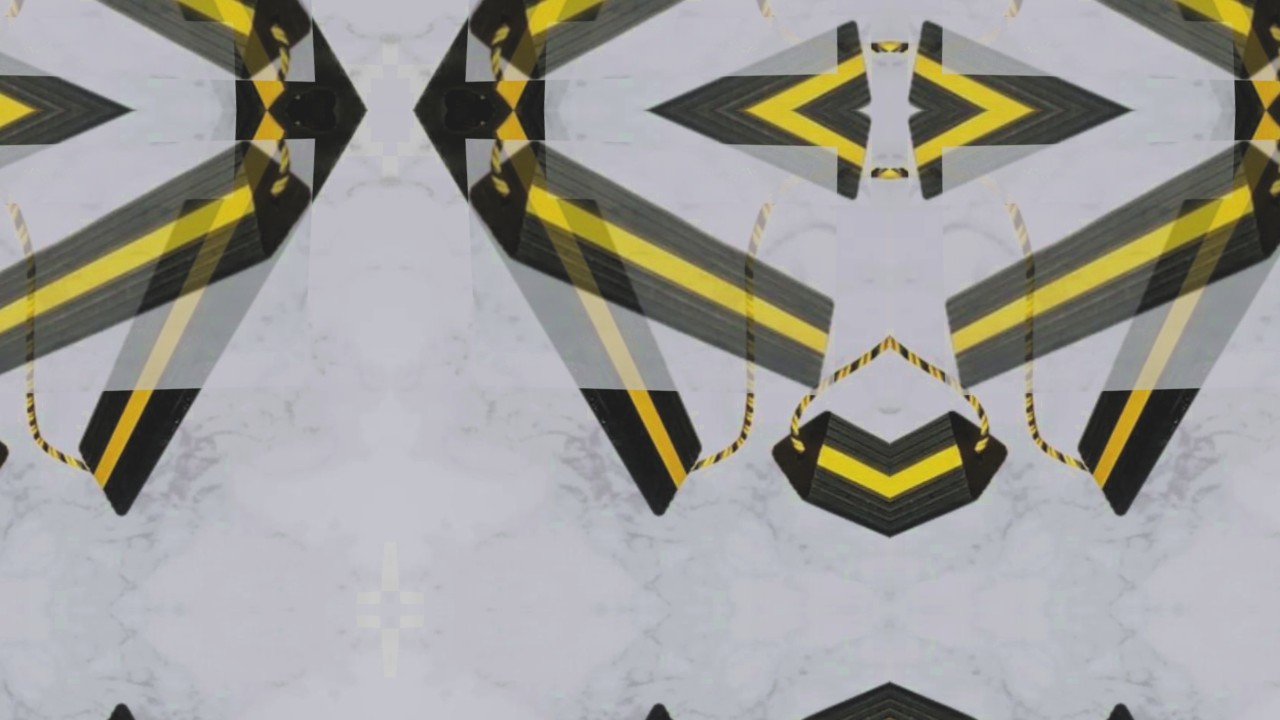chock: (54, 110, 390, 526), (390, 110, 726, 526), (452, 131, 847, 399), (1054, 110, 1280, 526), (933, 131, 1280, 399), (0, 131, 328, 399), (54, 0, 390, 110), (390, 0, 726, 110), (452, 0, 847, 89), (537, 9, 883, 110), (897, 9, 1243, 110), (537, 110, 883, 211), (897, 110, 1243, 211), (933, 0, 1280, 89), (0, 0, 328, 89), (762, 406, 890, 608), (890, 406, 1018, 608), (1054, 0, 1280, 110), (0, 9, 243, 110), (0, 110, 243, 211), (762, 612, 890, 720), (890, 612, 1018, 720), (0, 406, 18, 608)
